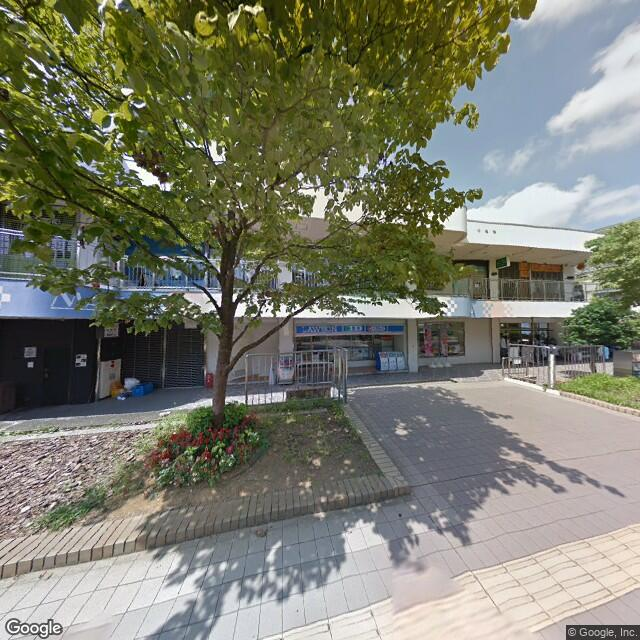lawson: (294, 315, 410, 340)
